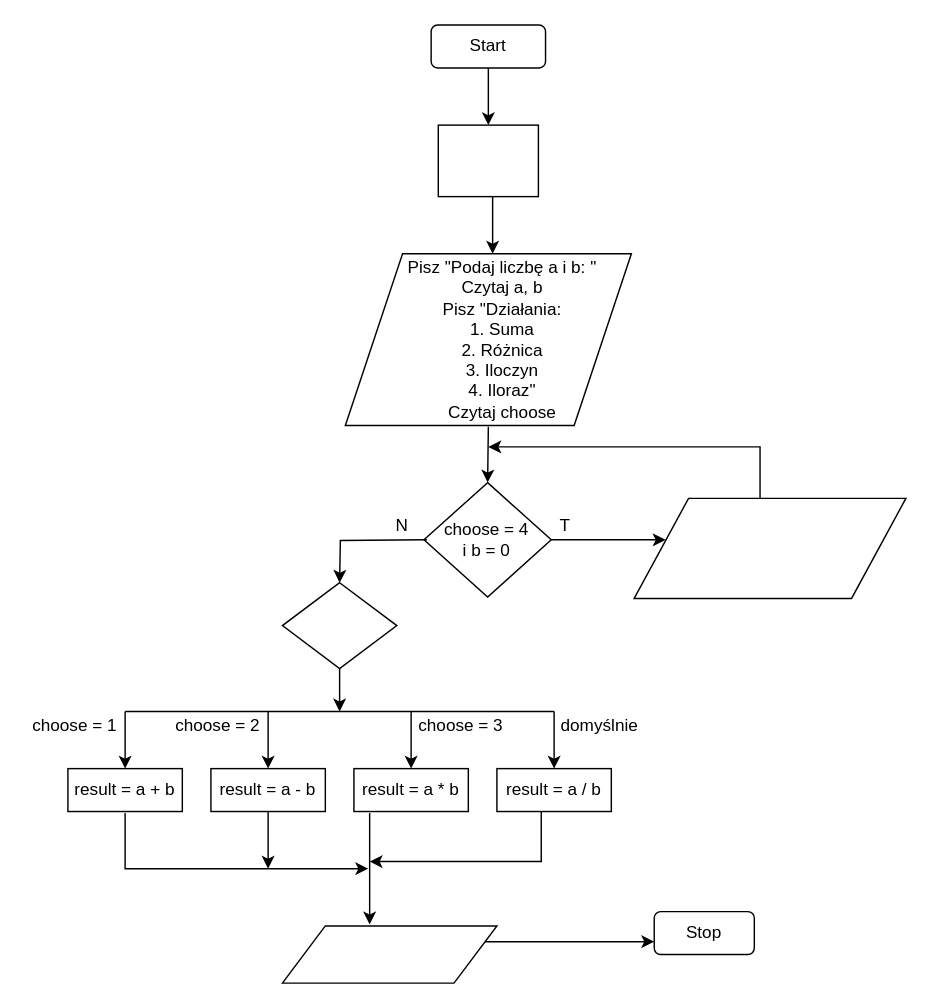
Image size: 931x1008. Some labels were removed from this diagram. Each missing label, with the box of its shape:
a = 0 b = 0 result = 0: (437, 124, 538, 197)
choose: (281, 581, 397, 669)
Pisz "Nie można dzielić przez 0! Proszę wpisać inną liczbę!" Czytaj b: (633, 497, 906, 598)
Pisz "Wynik: result": (281, 924, 497, 983)
